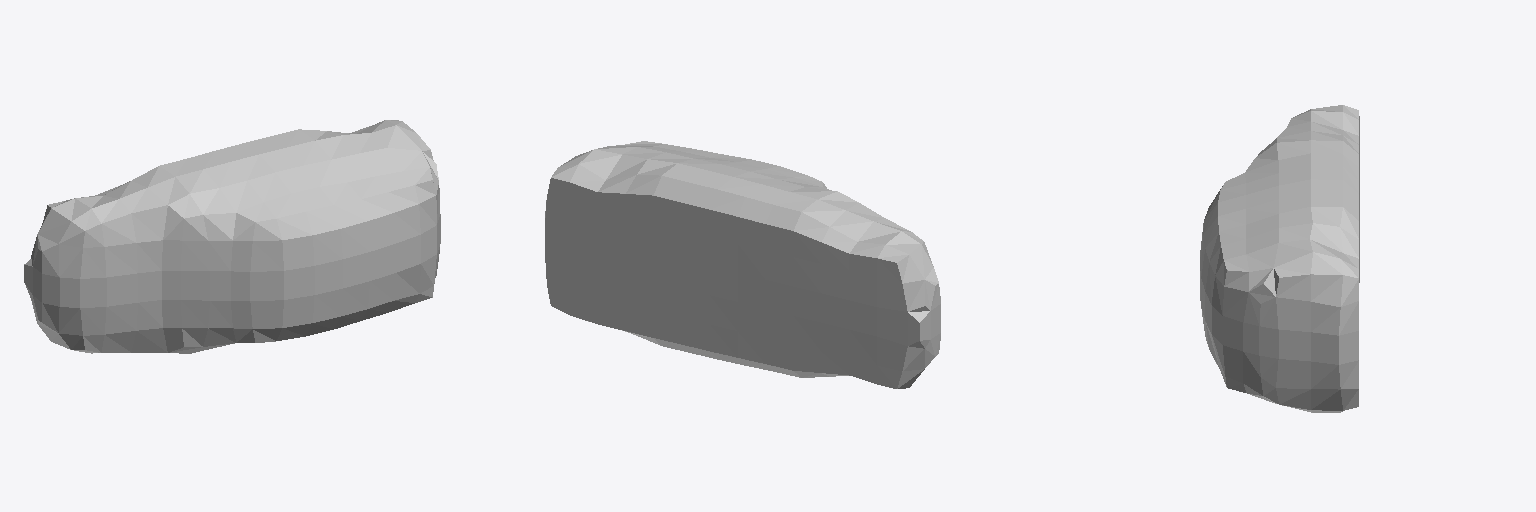
Rendered from minivan_smooth.obj.
The picture shows the model from 3 angles: view 1: azimuth 30°, elevation 25°; view 2: azimuth 150°, elevation 25°; view 3: azimuth 270°, elevation 25°; orthographic projection.
Parts seen in each view (by area): view 1: 18552_Minivan_v1_NEW; view 2: 18552_Minivan_v1_NEW; view 3: 18552_Minivan_v1_NEW.
Boxes of the visible parts, x1=… form: 18552_Minivan_v1_NEW: x1=24, y1=120, x2=440, y2=353; 18552_Minivan_v1_NEW: x1=545, y1=141, x2=940, y2=388; 18552_Minivan_v1_NEW: x1=1200, y1=105, x2=1359, y2=412.
Bounding box in the file's own units: 9.6 × 4.07 × 3.45.